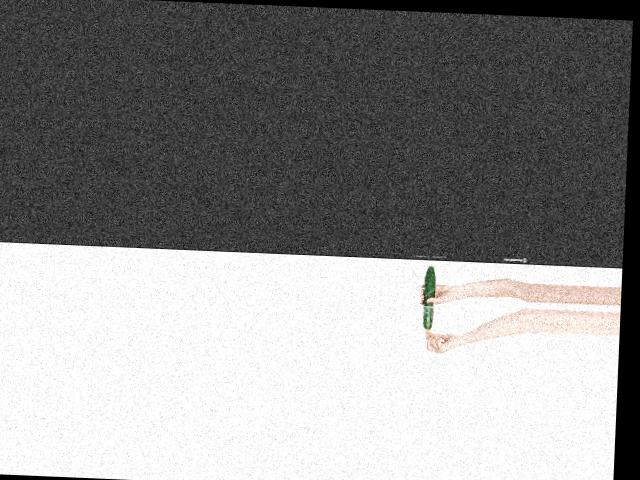cucumber: (422, 264, 434, 329)
